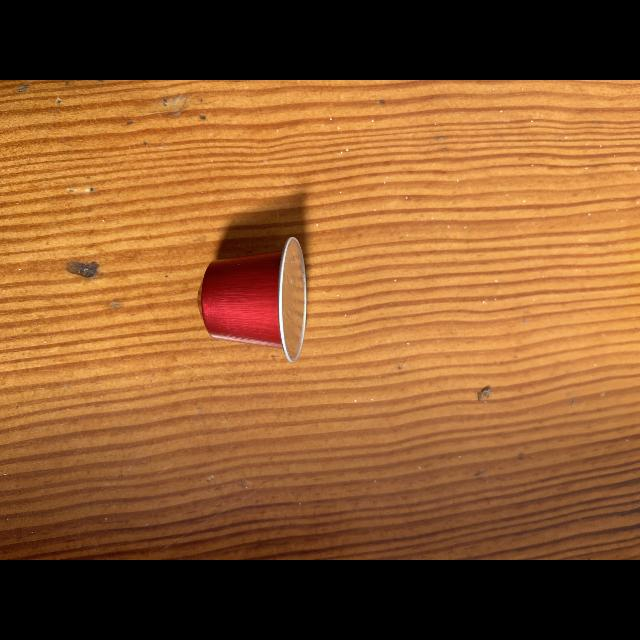intact_capsule: (186, 231, 324, 371)
